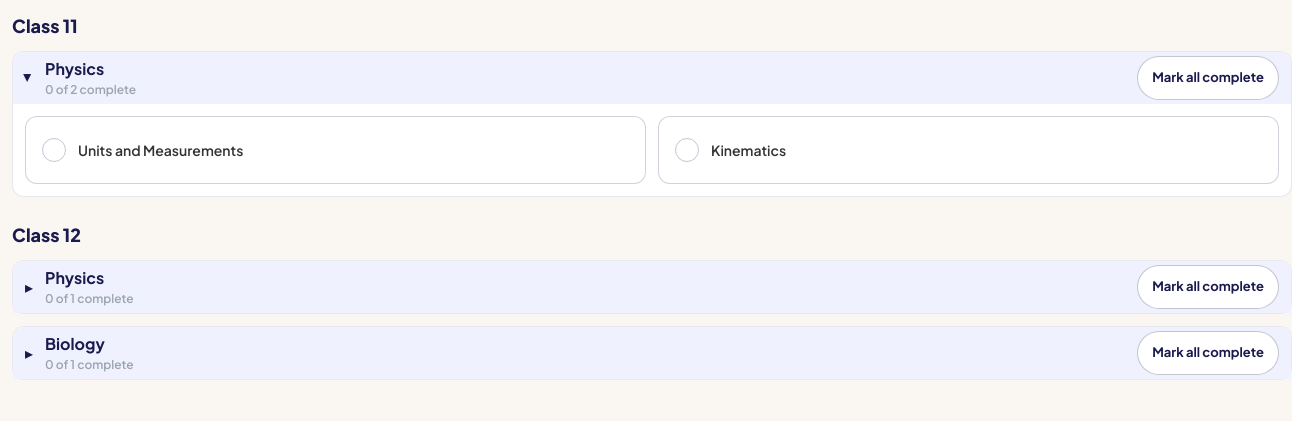
ChapterPicker › Mark all complete finishes a whole subject in one tap, and the same control undoes it
The image size is (1292, 421).
Check: the text with test id "subject-count" reads "0 of 2 complete", box [45,81,136,99]
Click the button with test id "mark-all": point(1208, 78) [1137,56,1279,100]
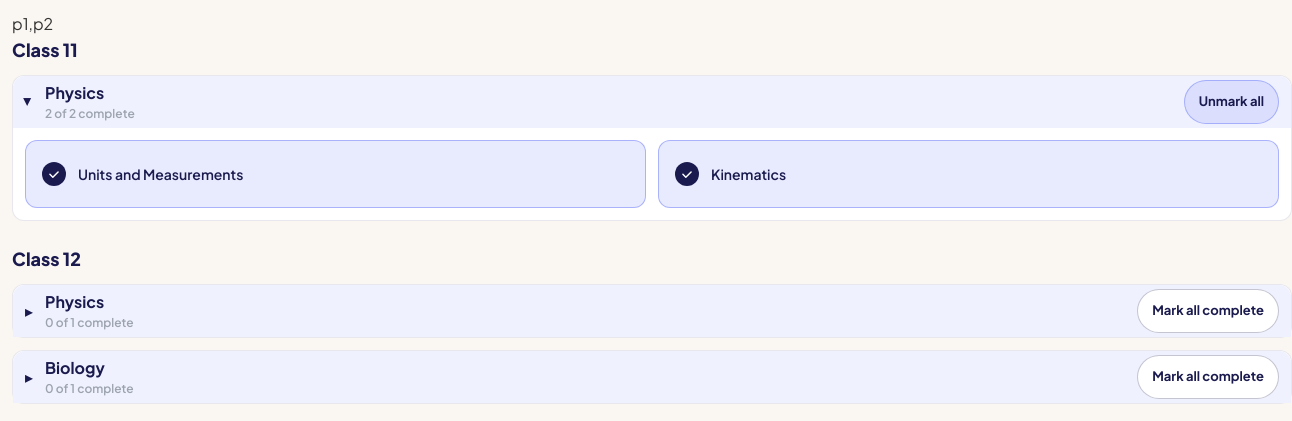
Check: the text with test id "marked" reads "p1,p2", box [12,13,53,34]
Check: the text with test id "subject-count" reads "2 of 2 complete", box [45,105,135,123]
Check: the button with test id "mark-all" reads "Unmark all"
Click the button with test id "mark-all": point(1231, 102) [1184,80,1279,124]
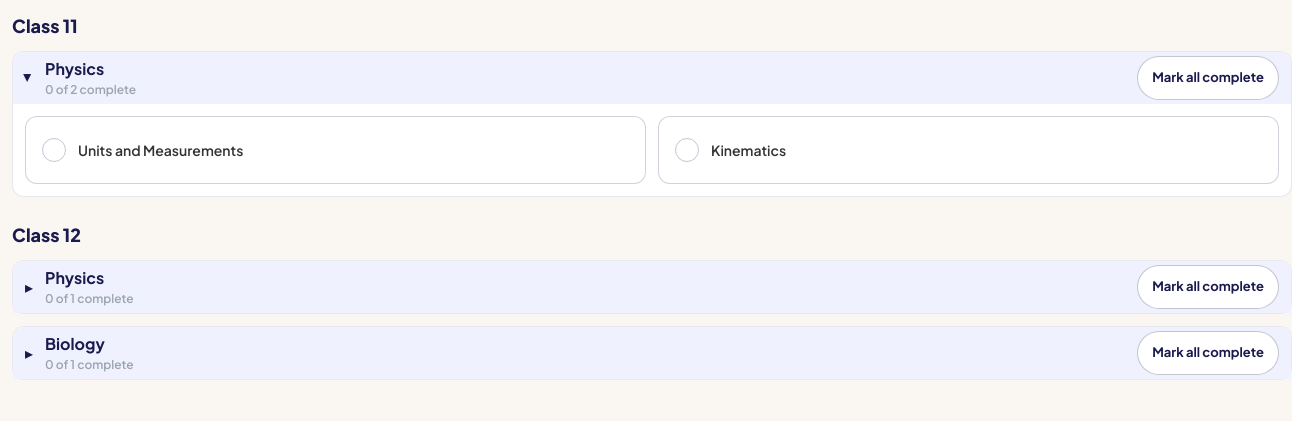
Check: the button with test id "mark-all" reads "Mark all complete", box [1137,56,1279,100]
